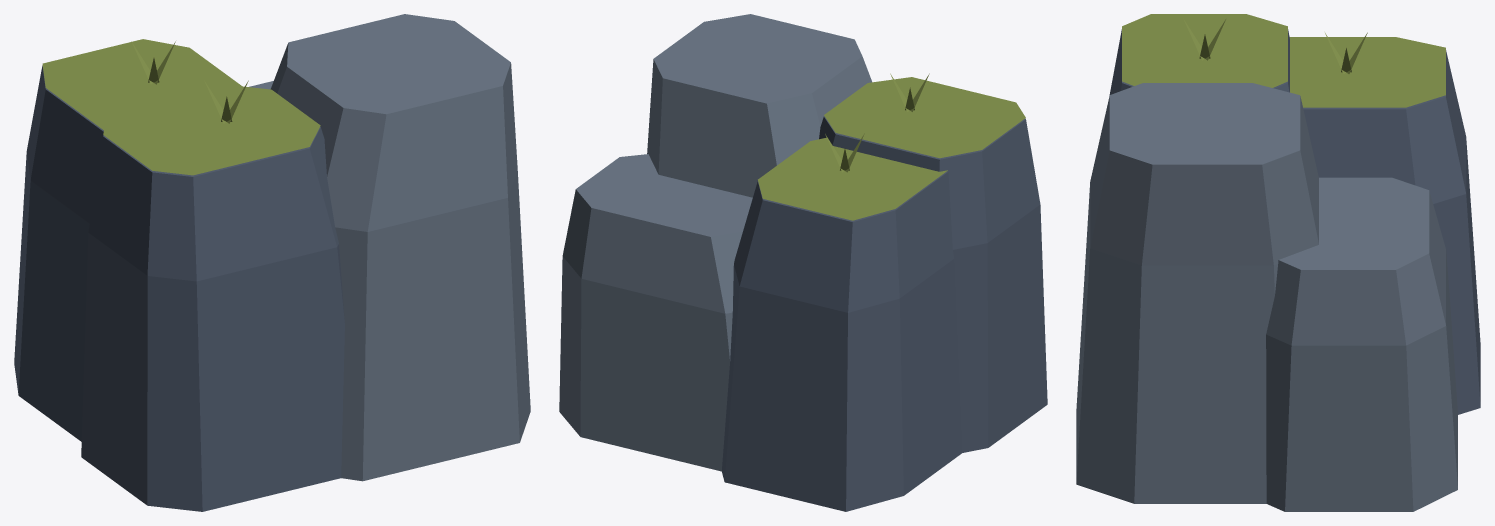
File: RockCluster3.glb
The picture shows the model from 3 angles, left to right: view 1: azimuth 30°, elevation 25°; view 2: azimuth 150°, elevation 25°; view 3: azimuth 270°, elevation 25°; orthographic projection. The views are drawn at different scales.
Visible parts, largest first — view 1: Faceted cliff column, Faceted cliff column.001, Faceted cliff column.002, Grassy cliff cap, Grassy cliff cap.001; view 2: Faceted cliff column.002, Faceted cliff column.003, Faceted cliff column.001, Faceted cliff column, Grassy cliff cap, Grassy cliff cap.001; view 3: Faceted cliff column.001, Faceted cliff column.003, Faceted cliff column.002, Grassy cliff cap, Grassy cliff cap.001, Faceted cliff column.
Part boxes in pixels (left/top/right/bottom): Faceted cliff column: left=81, top=127, right=344, bottom=511; Faceted cliff column.001: left=270, top=14, right=530, bottom=481; Faceted cliff column.002: left=14, top=65, right=103, bottom=441; Grassy cliff cap: left=103, top=84, right=320, bottom=175; Grassy cliff cap.001: left=42, top=39, right=241, bottom=129; Faceted cliff column.002: left=721, top=171, right=962, bottom=511; Faceted cliff column.003: left=559, top=154, right=752, bottom=471; Faceted cliff column.001: left=647, top=14, right=871, bottom=197; Faceted cliff column: left=819, top=116, right=1047, bottom=452; Grassy cliff cap: left=824, top=77, right=1025, bottom=158; Grassy cliff cap.001: left=758, top=137, right=947, bottom=220; Faceted cliff column.001: left=1076, top=83, right=1318, bottom=503; Faceted cliff column.003: left=1266, top=177, right=1457, bottom=511; Faceted cliff column.002: left=1303, top=50, right=1480, bottom=414; Grassy cliff cap: left=1122, top=14, right=1287, bottom=87; Grassy cliff cap.001: left=1289, top=37, right=1445, bottom=107; Faceted cliff column: left=1109, top=29, right=1289, bottom=95.
Bounding box in the file's own units: 7.95 × 6.91 × 7.15.
